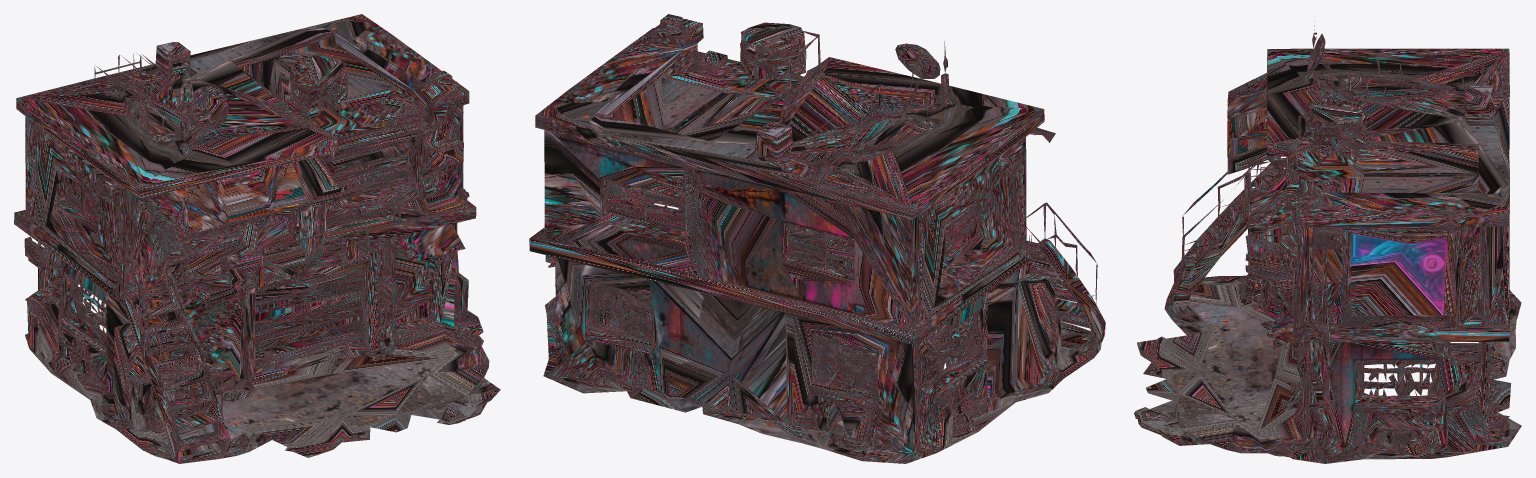
Rendered from cyberpunk_building_1.glb.
The picture shows the model from 3 angles, left to right: view 1: azimuth 30°, elevation 25°; view 2: azimuth 150°, elevation 25°; view 3: azimuth 270°, elevation 25°; orthographic projection. The views are drawn at different scales.
Parts seen in each view (by area): view 1: world; view 2: world; view 3: world.
Part boxes in pixels (left/top/right/bottom): world: left=14, top=14, right=500, bottom=463; world: left=529, top=14, right=1105, bottom=463; world: left=1134, top=21, right=1521, bottom=463.
Size of the model in its own units: 1.95 by 1.51 by 1.69.
Materials: 1 (1 with a texture image).
